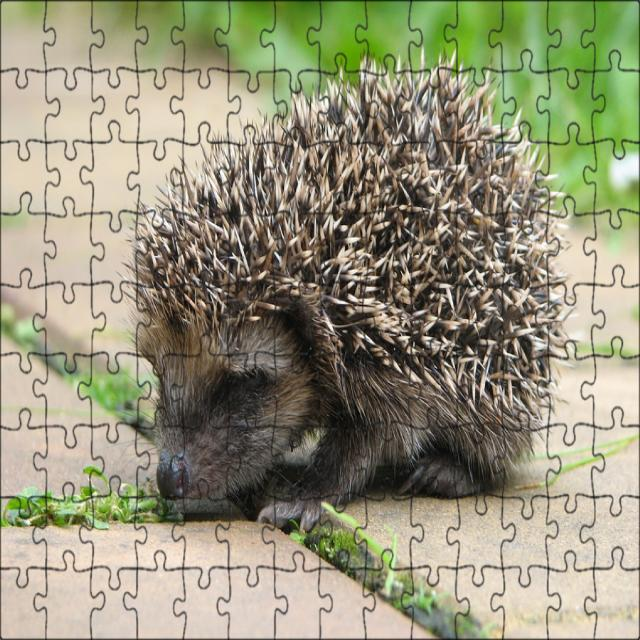Hedgehog: (132, 43, 560, 535)
